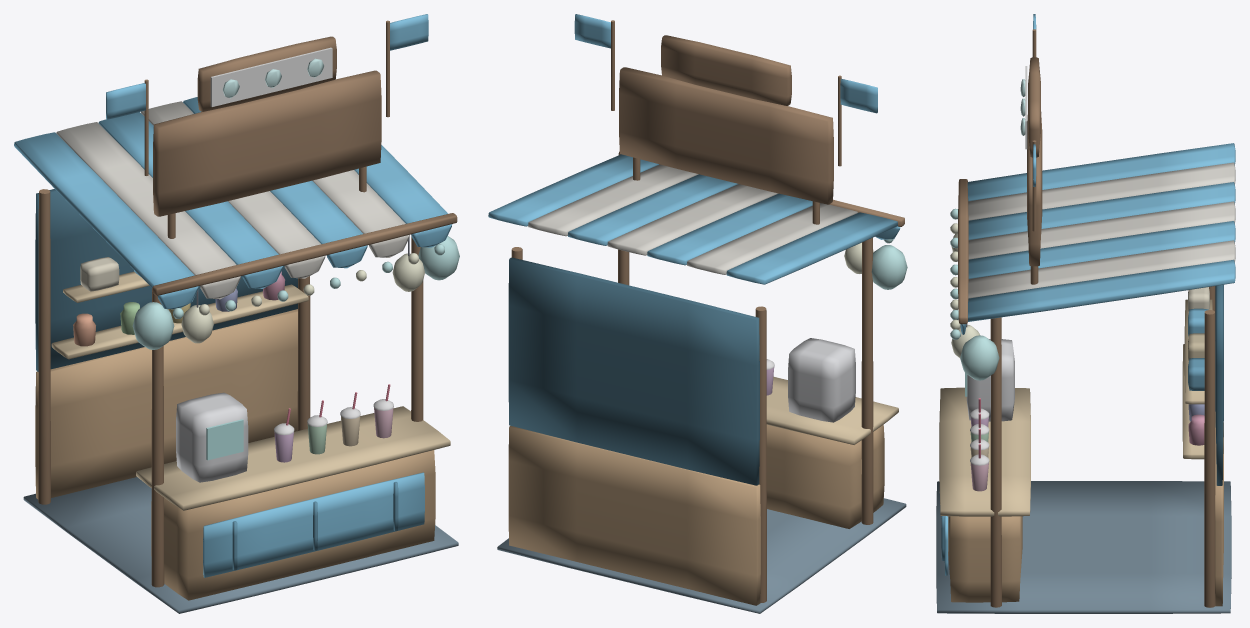
The model's file is stall_tea.glb.
3 renders of one model, left to right at view 1: azimuth 30°, elevation 25°; view 2: azimuth 150°, elevation 25°; view 3: azimuth 270°, elevation 25°, orthographic. The views are drawn at different scales.
Visible parts, largest first — view 1: body, level3, level2; view 2: body, level3, level2; view 3: body, level2, level3.
Part boxes in pixels (x1=…): body: x1=14, y1=70, x2=458, y2=613; level3: x1=106, y1=14, x2=428, y2=175; level2: x1=63, y1=236, x2=459, y2=349; body: x1=488, y1=67, x2=906, y2=613; level3: x1=574, y1=14, x2=877, y2=166; level2: x1=871, y1=239, x2=907, y2=289; body: x1=936, y1=112, x2=1235, y2=613; level2: x1=950, y1=208, x2=1212, y2=404; level3: x1=1020, y1=14, x2=1040, y2=231.
Bounding box in the file's own units: 3.2 × 4.68 × 2.73.
